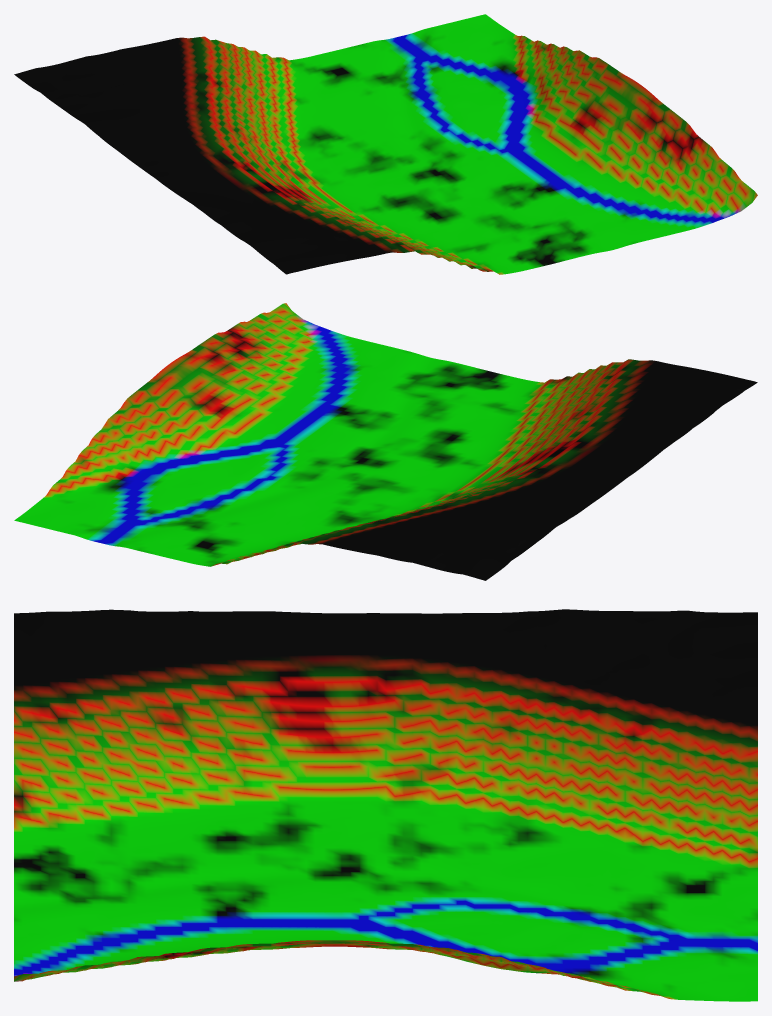
File: SM_RiyadhNights_Terrain_1_0.fbx
3 renders of one model, top to bottom at view 1: azimuth 30°, elevation 25°; view 2: azimuth 150°, elevation 25°; view 3: azimuth 270°, elevation 25°, orthographic. The views are drawn at different scales.
Visible parts, largest first — view 1: SM_RiyadhNights_Terrain_1_0; view 2: SM_RiyadhNights_Terrain_1_0; view 3: SM_RiyadhNights_Terrain_1_0.
Boxes of the visible parts, x1,y1,x2,y2 form: SM_RiyadhNights_Terrain_1_0: (14,14,757,274); SM_RiyadhNights_Terrain_1_0: (14,303,757,580); SM_RiyadhNights_Terrain_1_0: (14,609,757,1001).
Size of the model in its own units: 50400 by 5955 by 50400.
